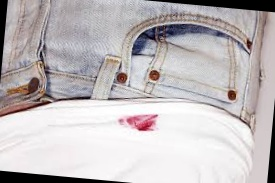lipstick: (119, 108, 163, 137)
